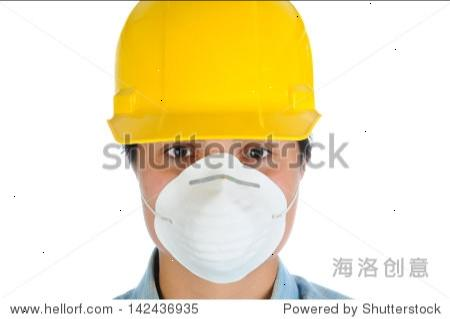helmet: (114, 2, 323, 158)
